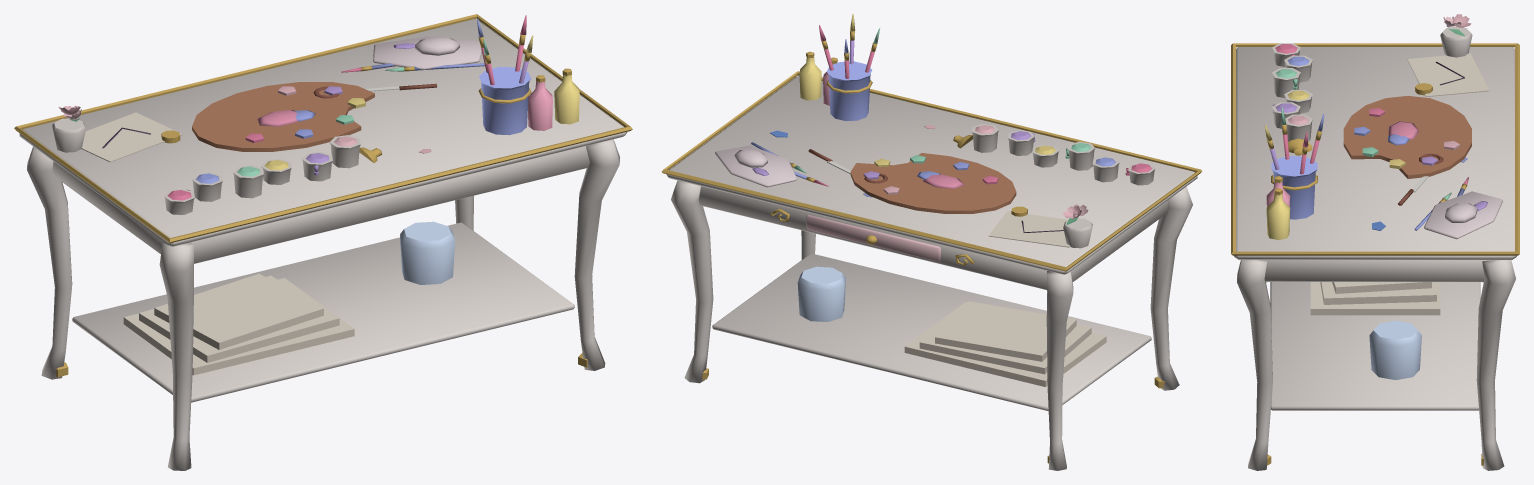
Rendered from paint_table.glb.
3 views of the same model, side by side, from view 1: azimuth 30°, elevation 25°; view 2: azimuth 150°, elevation 25°; view 3: azimuth 270°, elevation 25° (orthographic). The views are drawn at different scales.
Parts seen in each view (by area): view 1: paint_table; view 2: paint_table; view 3: paint_table.
Boxes of the visible parts, x1,y1,x2,y2 form: paint_table: [14, 14, 632, 470]; paint_table: [661, 14, 1201, 470]; paint_table: [1231, 14, 1519, 470].
Size of what is drawn, in the model's own units: 1.2 by 0.85 by 0.7.
